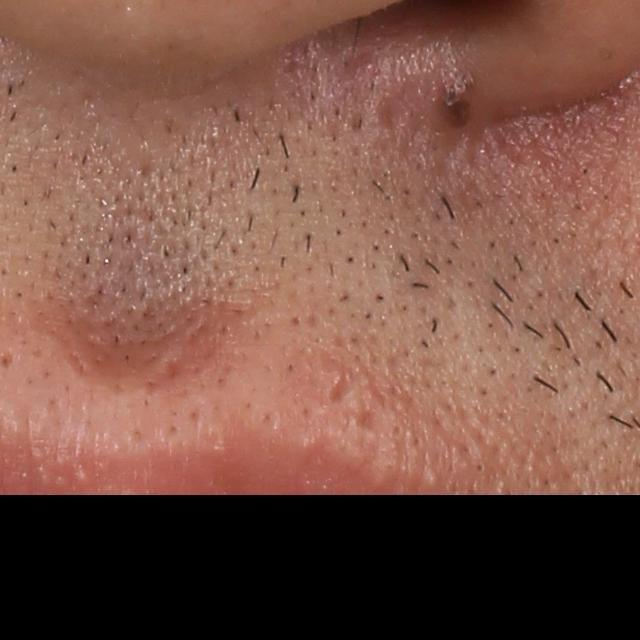atrophic_scar: (328, 361, 359, 408)
nevus: (431, 63, 501, 130)
